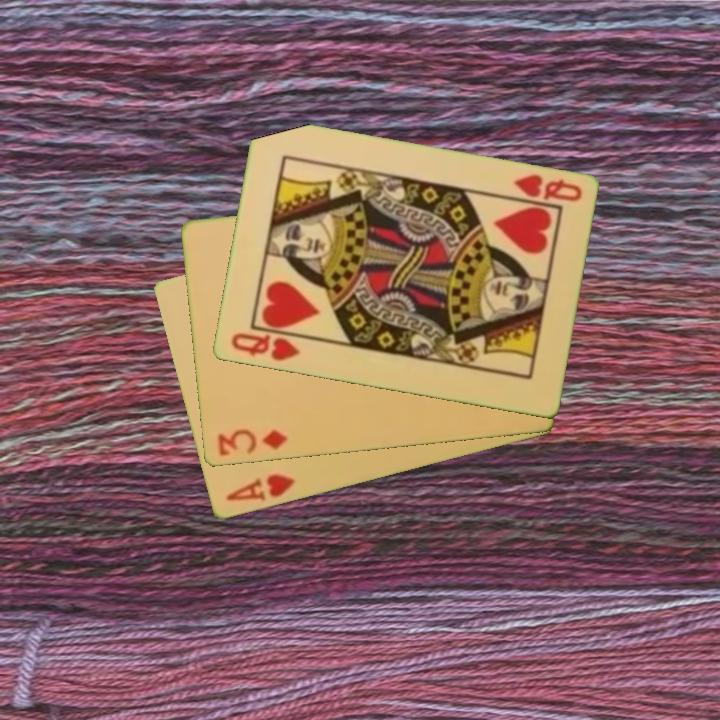3d: (214, 426, 290, 460)
Ah: (222, 471, 298, 505)
Qh: (227, 329, 302, 364), (509, 171, 585, 205)
